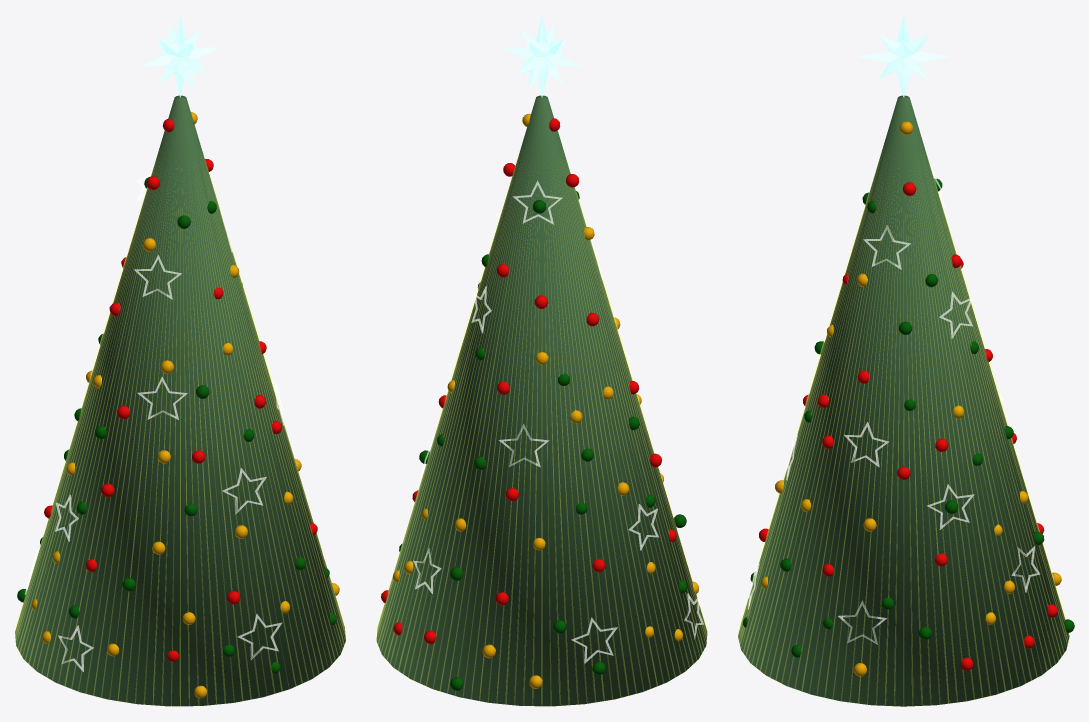
Rendered from arbol_navidad.glb.
3 renders of one model, left to right at view 1: azimuth 30°, elevation 25°; view 2: azimuth 150°, elevation 25°; view 3: azimuth 270°, elevation 25°, orthographic.
Visible parts, largest first — view 1: Arbol, Luces arbol, Estrella de la punta; view 2: Arbol, Luces arbol, Estrella de la punta; view 3: Arbol, Luces arbol, Estrella de la punta.
Part boxes in pixels (x1,y1,x2,y2): Arbol: [15, 95, 345, 706]; Luces arbol: [14, 155, 346, 707]; Estrella de la punta: [140, 14, 220, 97]; Arbol: [376, 95, 707, 706]; Luces arbol: [376, 156, 707, 706]; Estrella de la punta: [502, 15, 582, 97]; Arbol: [738, 95, 1069, 706]; Luces arbol: [738, 153, 1069, 706]; Estrella de la punta: [857, 14, 950, 97].
Size of the model in its own units: 22.5 by 47.44 by 22.81.
